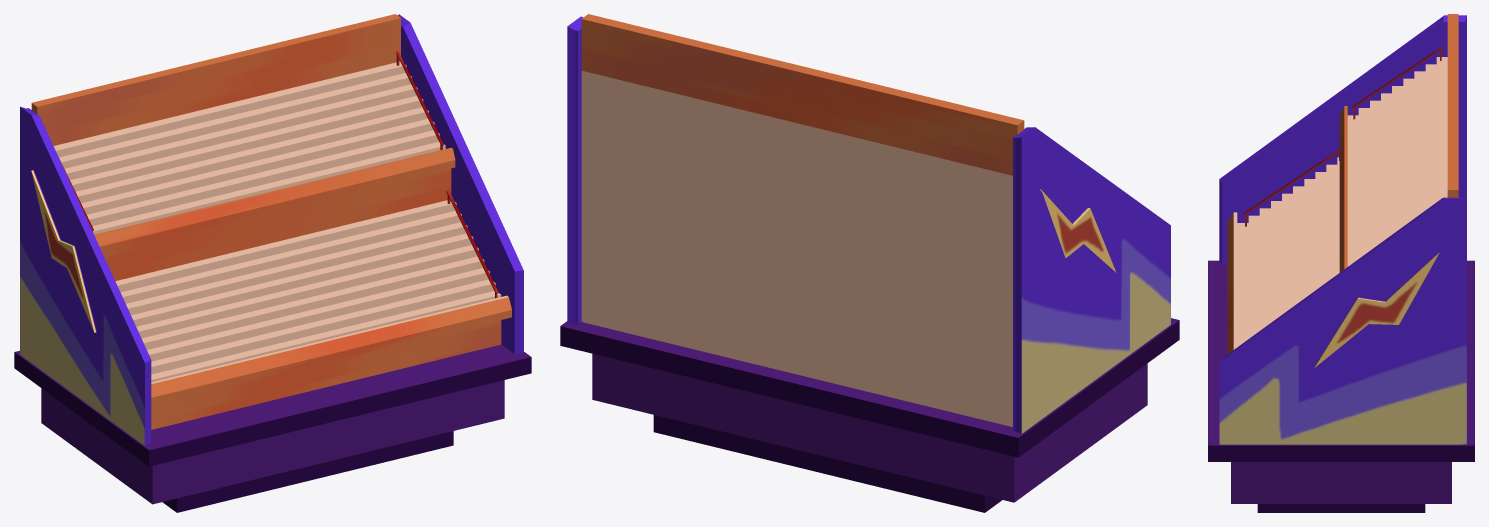
The model's file is Arquibancada Texturizada.fbx.
3 renders of one model, left to right at view 1: azimuth 30°, elevation 25°; view 2: azimuth 150°, elevation 25°; view 3: azimuth 270°, elevation 25°, orthographic. The views are drawn at different scales.
Visible parts, largest first — view 1: Assentos, Base de baixo, Limites dos lados, Corrimão; view 2: Assentos, Base de baixo, Limites dos lados; view 3: Limites dos lados, Assentos, Base de baixo, Corrimão.
Part boxes in pixels (x1=…): Assentos: x1=31, y1=14, x2=511, y2=429; Base de baixo: x1=14, y1=344, x2=531, y2=512; Limites dos lados: x1=20, y1=14, x2=523, y2=445; Corrimão: x1=59, y1=51, x2=498, y2=298; Assentos: x1=581, y1=14, x2=1024, y2=426; Base de baixo: x1=560, y1=318, x2=1179, y2=512; Limites dos lados: x1=567, y1=16, x2=1170, y2=433; Limites dos lados: x1=1219, y1=15, x2=1466, y2=444; Assentos: x1=1227, y1=14, x2=1458, y2=354; Base de baixo: x1=1208, y1=260, x2=1474, y2=512; Corrimão: x1=1243, y1=47, x2=1442, y2=226.
Size of the model in its own units: 6823 by 5876 by 4131.
Materials: 6 (5 with a texture image).
